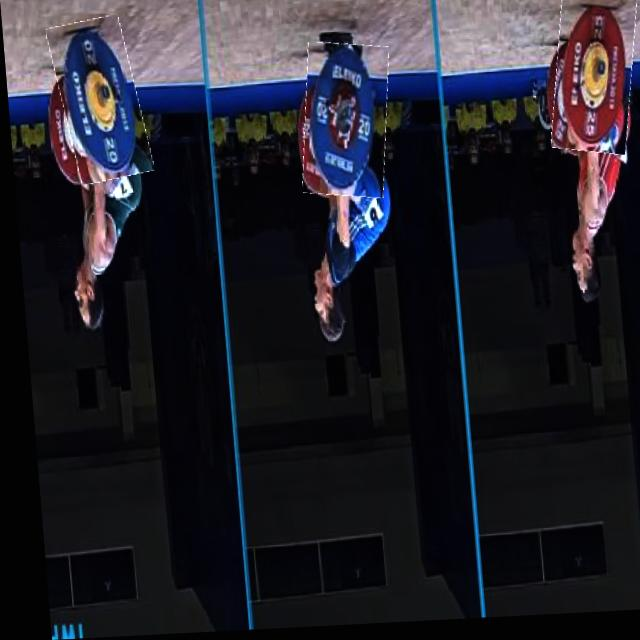barbell: (51, 18, 147, 185), (295, 46, 393, 204), (545, 1, 640, 162)
